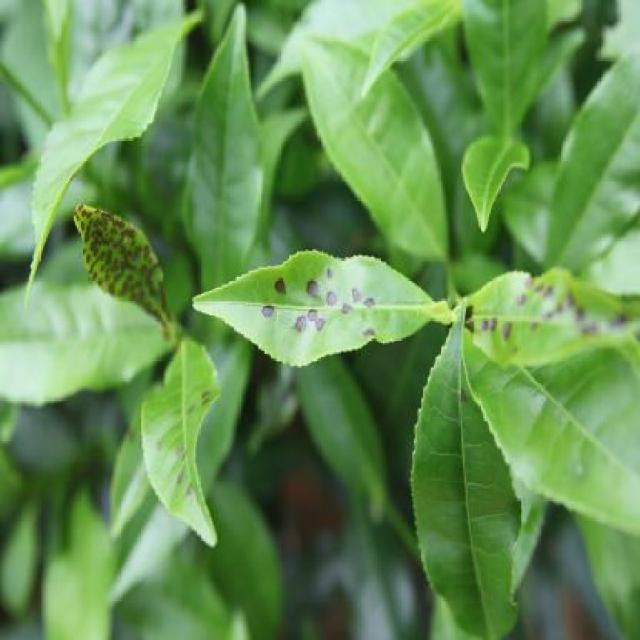Tea Mosquito bug infested leaf: (194, 248, 428, 368), (467, 268, 636, 368), (74, 203, 180, 332)
